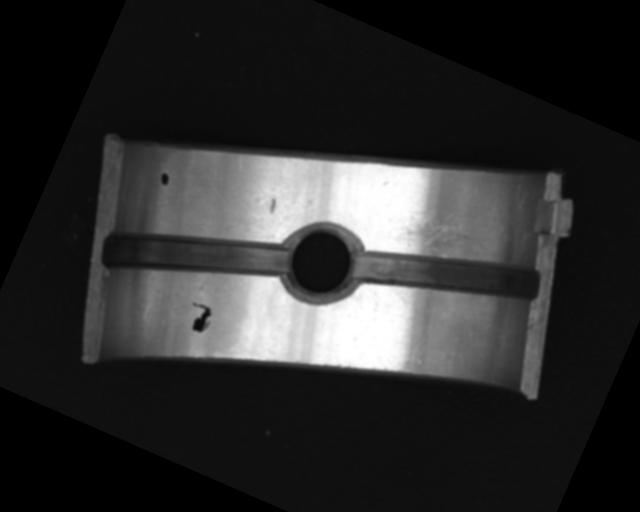blot: (182, 299, 216, 336), (157, 171, 172, 187)
bruise: (265, 196, 280, 215)
gap: (94, 180, 295, 332), (348, 204, 543, 347)
hole: (270, 211, 372, 313)
scratch: (397, 189, 515, 282)
